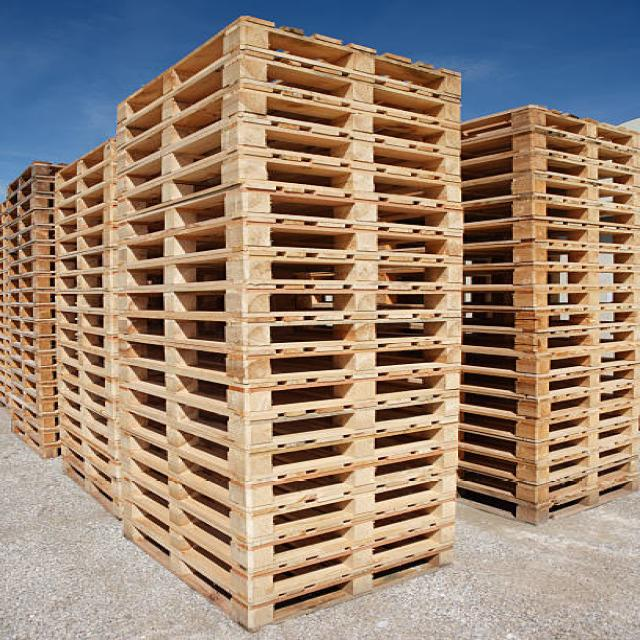Wooden-Pallets: (226, 19, 475, 111), (242, 381, 477, 456), (246, 117, 484, 187), (242, 220, 477, 267), (251, 339, 459, 378)
